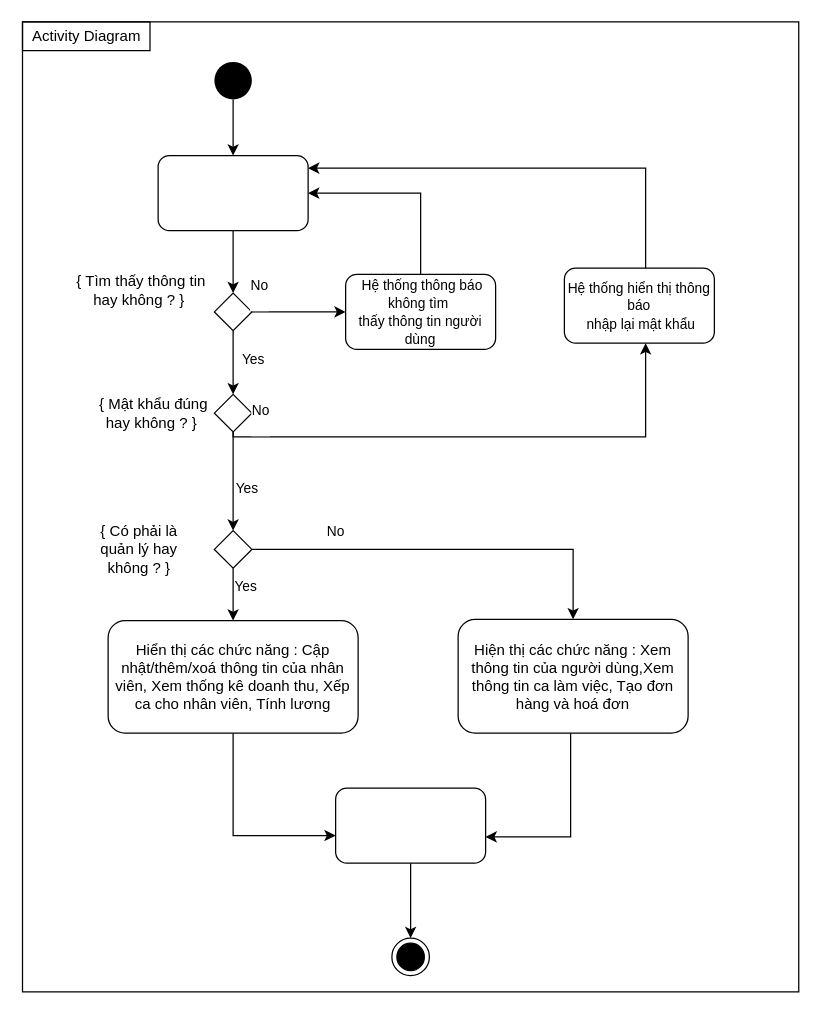
Some shapes in this 820 by 1014 pixel diagram are drawn without their labels. The box of each missing label's shape, as (x1, y1, x2, y2) in pixels:
Chuyển về giao diện chính cho người dùng: (334, 787, 486, 863)
Người dùng nhập tài khoản và mật khẩu: (157, 154, 308, 231)
